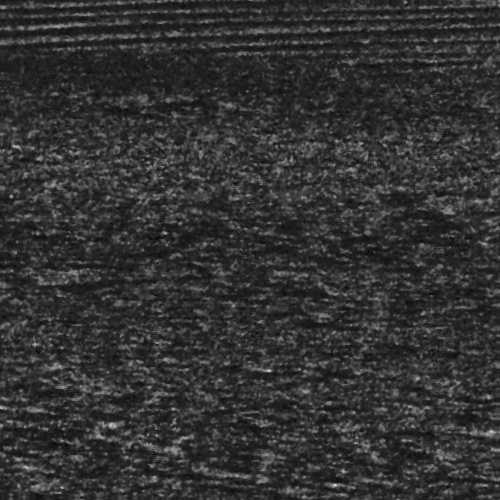object: (192, 466, 255, 477)
shadow: (35, 466, 223, 477)
